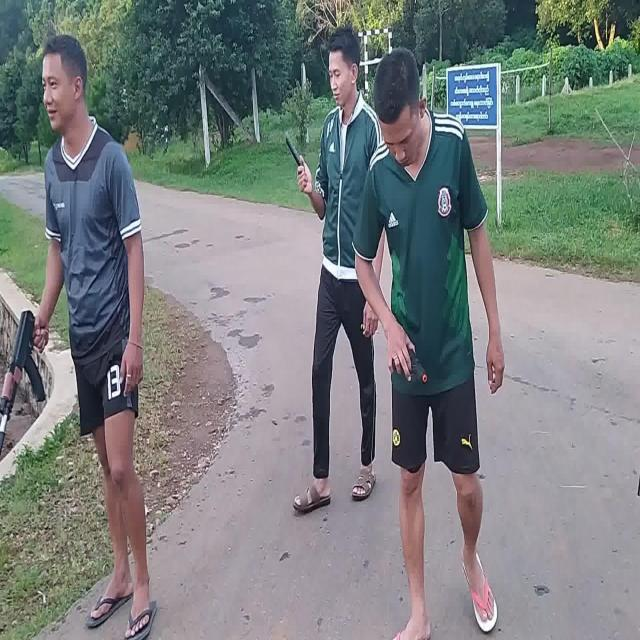gun: (0, 310, 44, 452), (392, 349, 426, 381)
